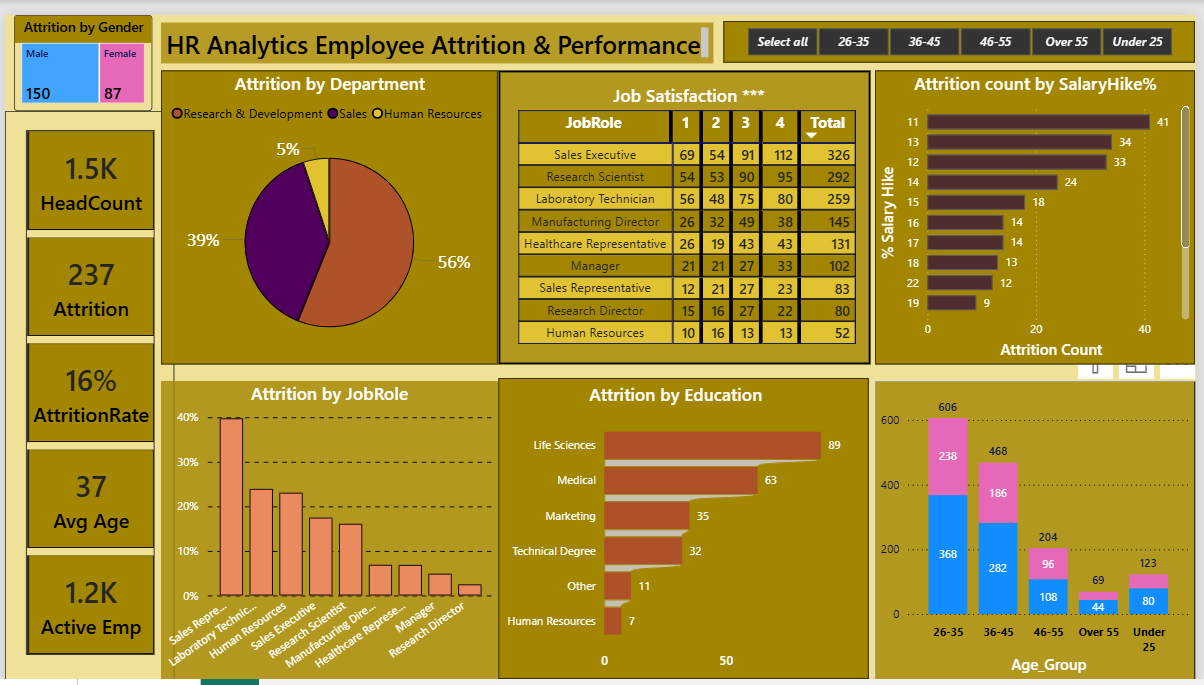

The page's visual inventory and layout, read from the dashboard file:
{"tool":"powerbi","page":{"name":"HR_Analytics","canvas":[1280,720],"ordinal":0},"visuals":[{"type":"cardVisual","fields":{"Data":["Sum(HR_Project_Power BI.EmployeeCount)","Sum(HR_Project_Power BI.AttritionCount)","HR_Project_Power BI.AttritionRate","Avg(HR_Project_Power BI.Age)","HR_Project_Power BI.ActiveEmployees"]},"box":[0,103.3,181.7,611.7],"z":0},{"type":"pieChart","title":" Attrition by Department","fields":{"Category":["HR_Project_Power BI.Department"],"Y":["Sum(HR_Project_Power BI.AttritionCount)"]},"box":[168,60,362,316],"z":1000},{"type":"columnChart","title":"Attrition by JobRole","fields":{"Category":["HR_Project_Power BI.JobRole"],"Y":["HR_Project_Power BI.AttritionRate"]},"box":[167,392.9,362.7,321.3],"z":2000},{"type":"pivotTable","title":"Job Satisfaction ***","fields":{"Columns":["HR_Project_Power BI.JobSatisfaction"],"Rows":["HR_Project_Power BI.JobRole"],"Values":["Sum(HR_Project_Power BI.EmployeeCount)"]},"box":[530,60,400,316],"z":3000},{"type":"barChart","title":" Attrition by Education","fields":{"Category":["HR_Project_Power BI.EducationField"],"Y":["Sum(HR_Project_Power BI.AttritionCount)"]},"box":[530,391,398,323],"z":4000},{"type":"columnChart","fields":{"Category":["HR_Project_Power BI.Age_Group"],"Series":["HR_Project_Power BI.Gender"],"Y":["Sum(HR_Project_Power BI.EmployeeCount)"]},"box":[936,393,344,321],"z":5000},{"type":"treemap","title":" Attrition by Gender","fields":{"Group":["HR_Project_Power BI.Gender"],"Values":["Sum(HR_Project_Power BI.AttritionCount)"]},"box":[10.1,0,148.5,103],"z":6000},{"type":"barChart","title":"Attrition count by SalaryHike%","fields":{"Category":["HR_Project_Power BI.PercentSalaryHike"],"Y":["Sum(HR_Project_Power BI.AttritionCount)"]},"box":[936,60,344,316],"z":7000},{"type":"textbox","box":[167.5,7.5,593.8,43.8],"z":8000},{"type":"slicer","fields":{"Values":["HR_Project_Power BI.Age_Group"]},"box":[772.4,6.9,506.9,44.8],"z":9000}]}

Visuals, with their boxes in screenshot pixels (x1, y1, x2, y2), scaled from the page's 1280x720 canvas onto the 1204x685 screenshot:
cardVisual - Sum(HR_Project_Power BI.EmployeeCount) x Sum(HR_Project_Power BI.AttritionCount): (0,98,171,680)
" Attrition by Department" pieChart: (158,57,499,358)
"Attrition by JobRole" columnChart: (157,374,498,679)
"Job Satisfaction ***" pivotTable: (499,57,875,358)
" Attrition by Education" barChart: (499,372,873,679)
columnChart - HR_Project_Power BI.Age_Group x HR_Project_Power BI.Gender: (880,374,1203,679)
" Attrition by Gender" treemap: (10,0,149,98)
"Attrition count by SalaryHike%" barChart: (880,57,1203,358)
textbox: (158,7,716,49)
slicer - HR_Project_Power BI.Age_Group: (727,7,1203,49)
